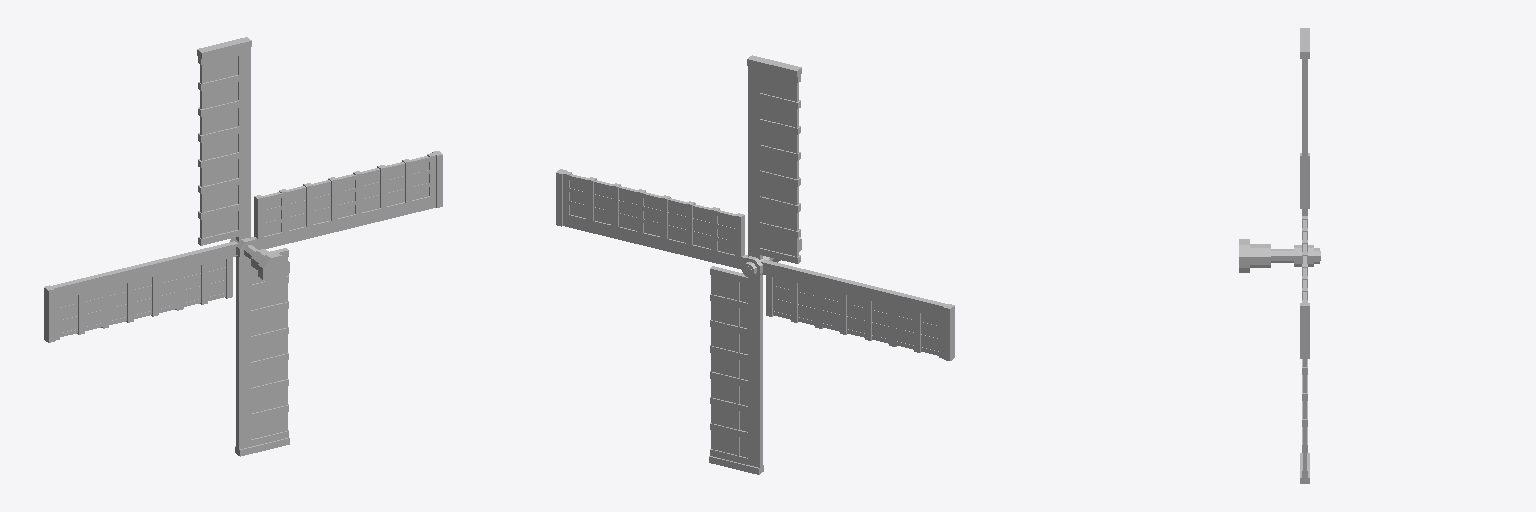
File: fan.obj
3 views of the same model, side by side, from view 1: azimuth 30°, elevation 25°; view 2: azimuth 150°, elevation 25°; view 3: azimuth 270°, elevation 25° (orthographic).
Parts seen in each view (by area): view 1: Cube.004_Cube.011; view 2: Cube.004_Cube.011; view 3: Cube.004_Cube.011.
Boxes of the visible parts, <box> form: Cube.004_Cube.011: <box>44,37,442,456</box>; Cube.004_Cube.011: <box>556,55,954,474</box>; Cube.004_Cube.011: <box>1239,28,1320,483</box>.
Size of the model in its own units: 20 by 20 by 3.56.